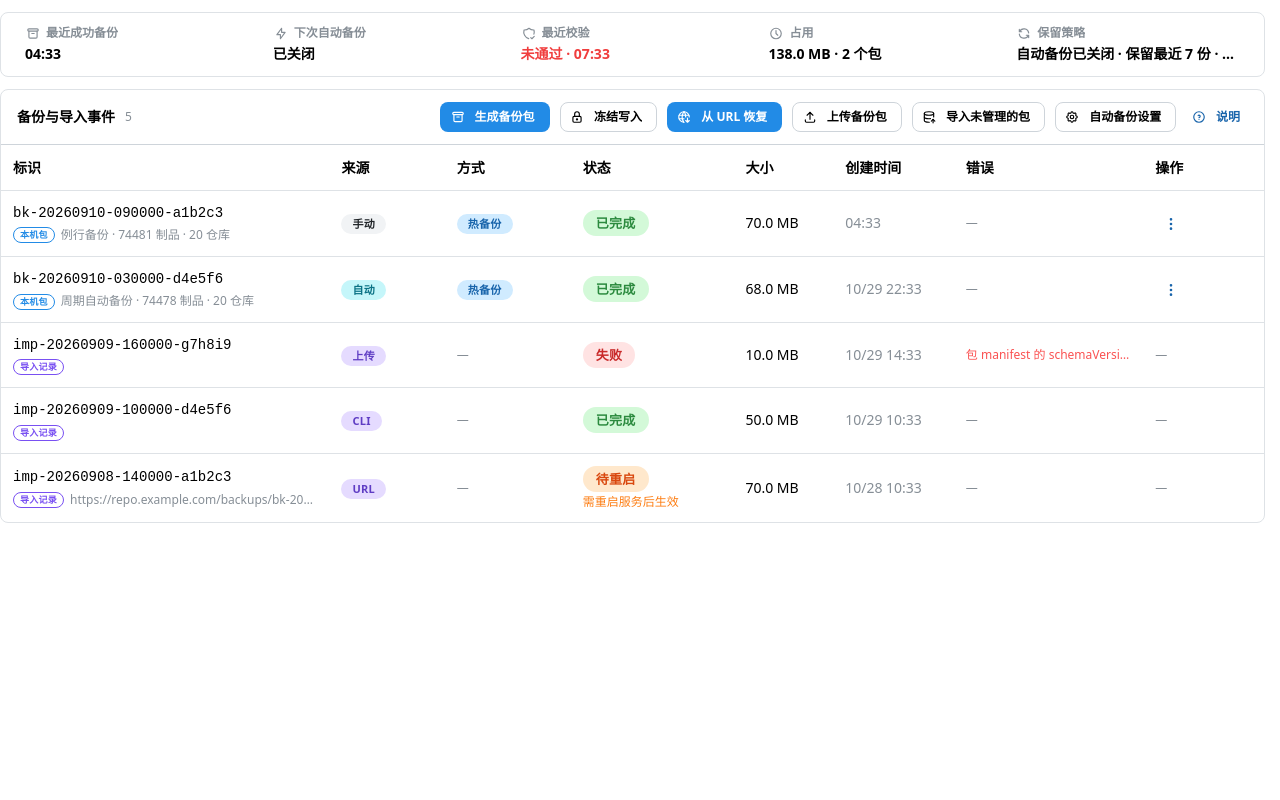
Scenario: 分片上传备份包 › 收起内联面板后重新展开，未完成会话仍被发现（面板必须保持挂载）
The width and height of the screenshot is (1280, 800).
Check: the element with test id "backup-actions" is shown, box [440,102,1248,132]
Click the button "上传备份包".
click(847, 117)  # box [792,102,902,132]
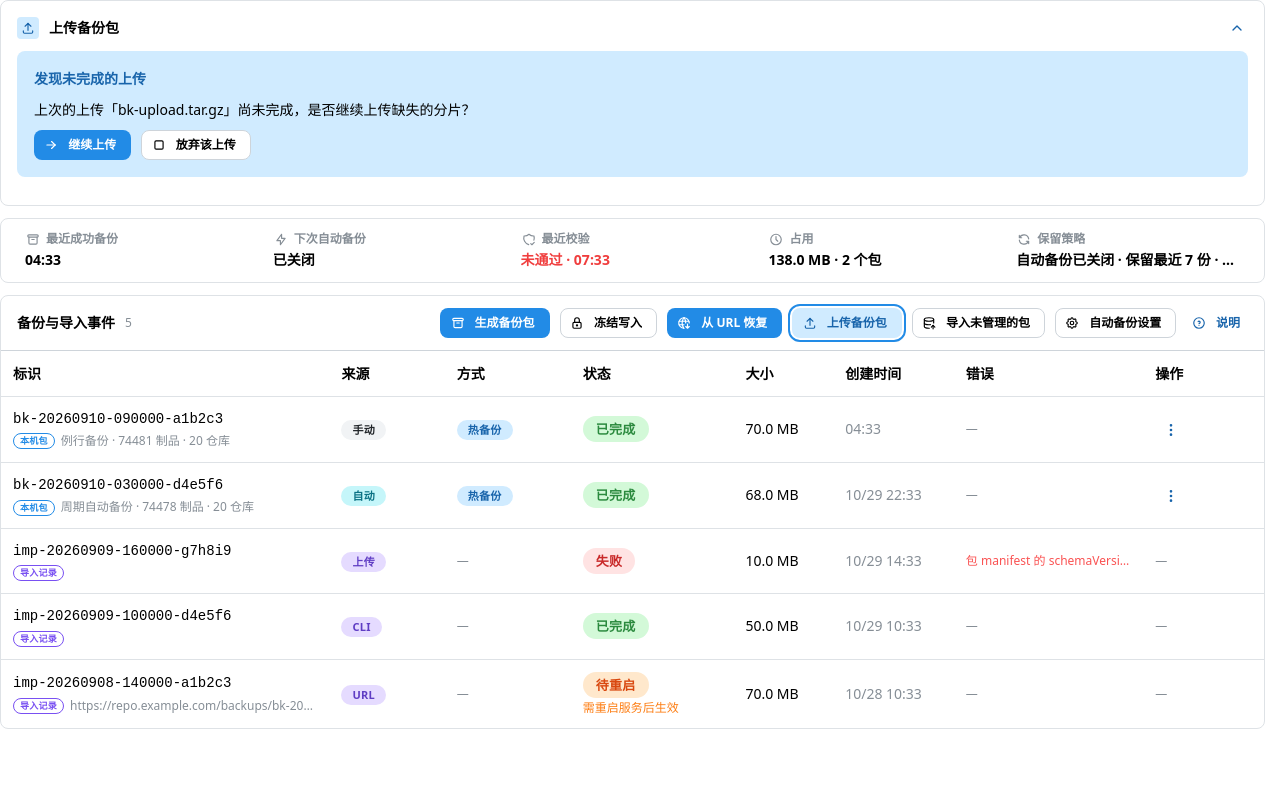
Check: the text "发现未完成的上传" is shown, box [34,68,146,90]
Click the button named "收起".
click(1237, 28)  # box [1226,17,1248,39]
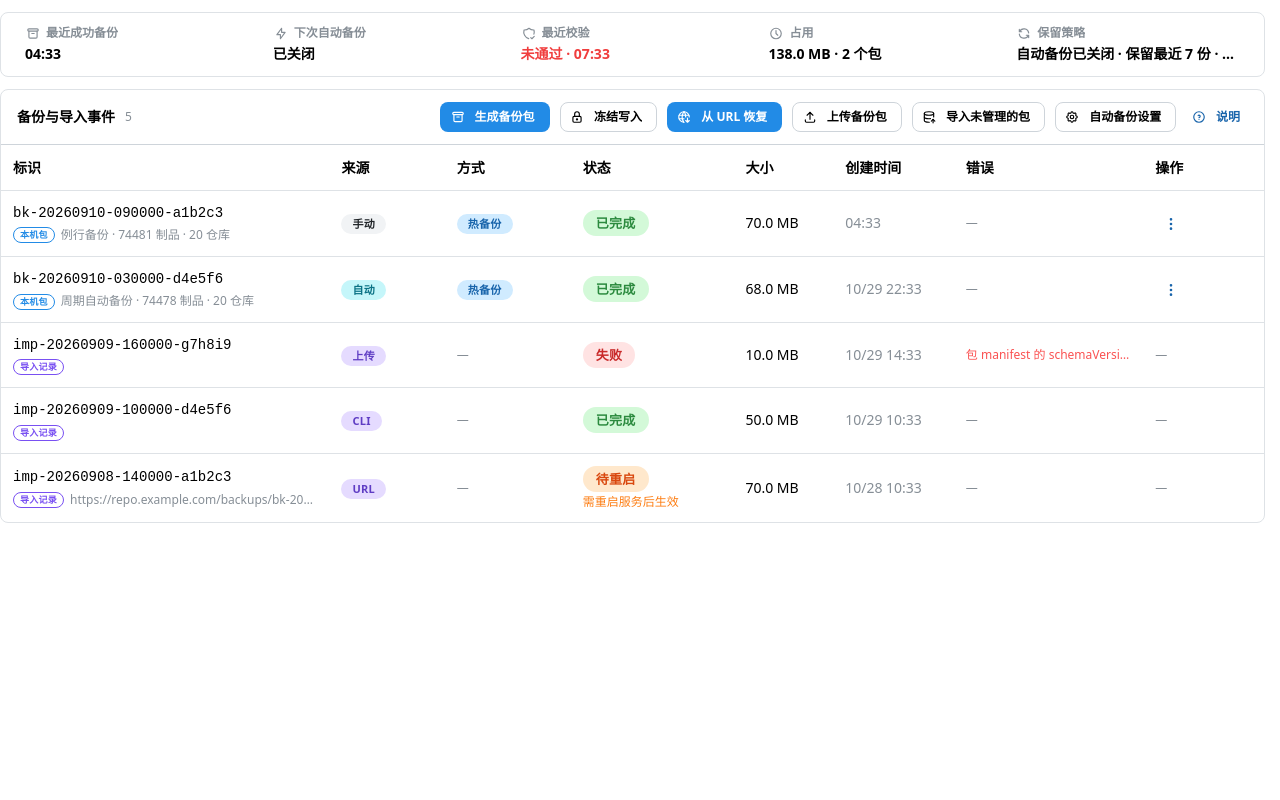
Check: the element with test id "backup-actions" is shown, box [440,102,1248,132]
Click the button "上传备份包".
click(847, 117)  # box [792,102,902,132]
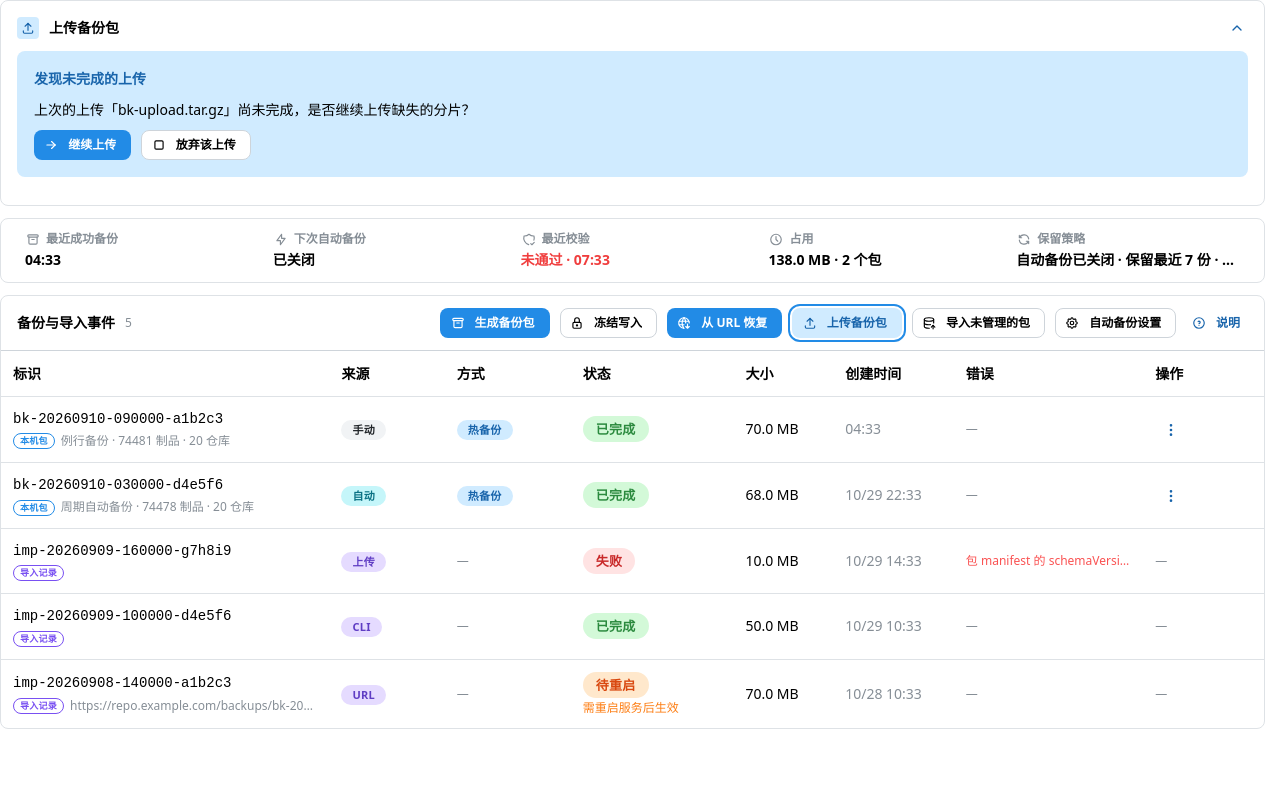
Check: the text "发现未完成的上传" is shown, box [34,68,146,90]
